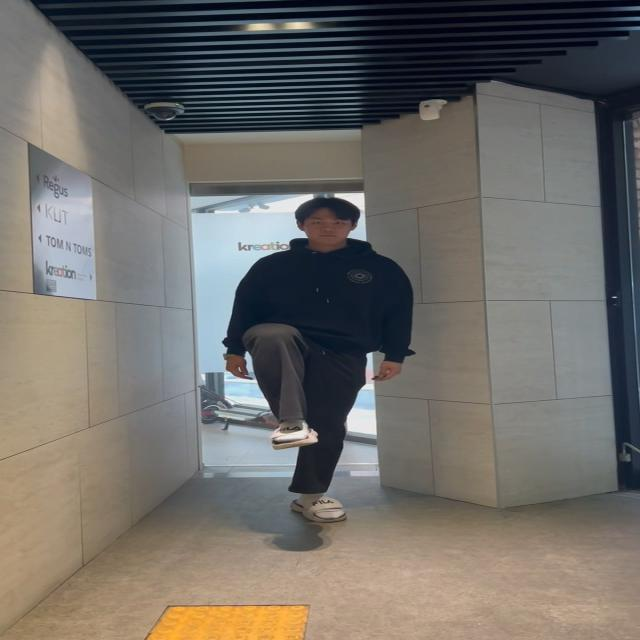knee: (225, 312, 325, 447)
